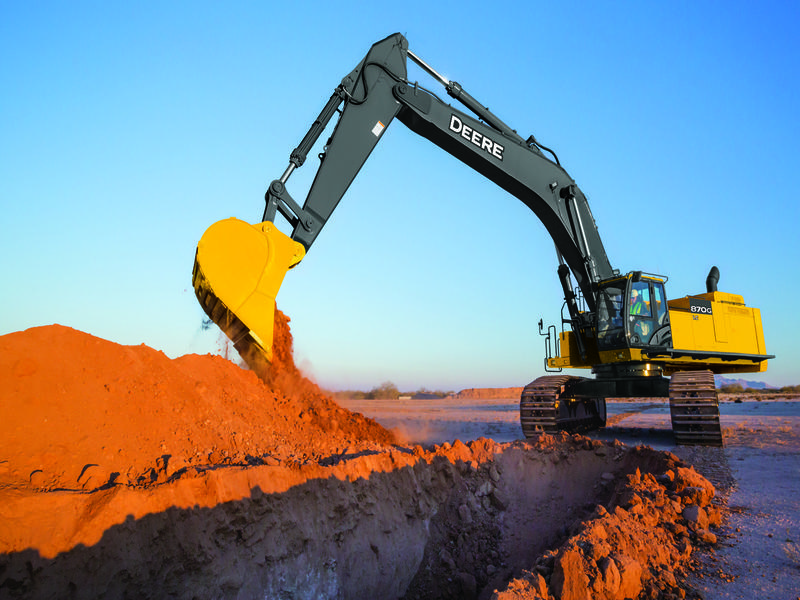shovel: (185, 27, 774, 454)
